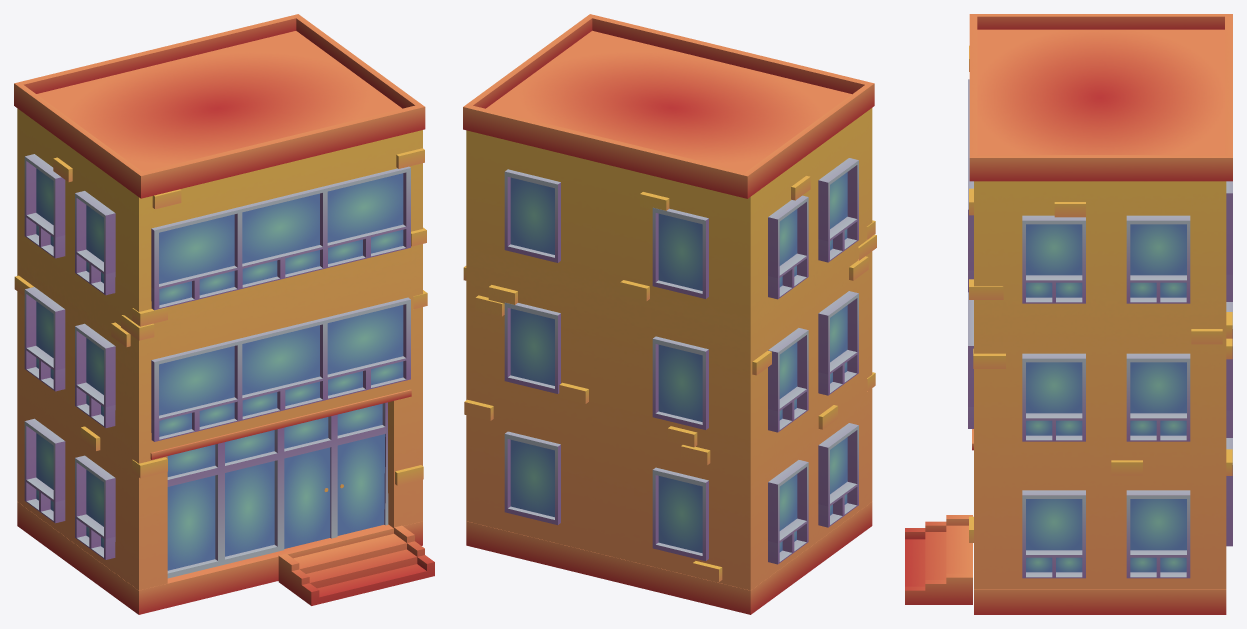
Rendered from SM_3F_R_Half_04.fbx.
3 renders of one model, left to right at view 1: azimuth 30°, elevation 25°; view 2: azimuth 150°, elevation 25°; view 3: azimuth 270°, elevation 25°, orthographic. The views are drawn at different scales.
Visible parts, largest first — view 1: SM_3F_R_Half_04; view 2: SM_3F_R_Half_04; view 3: SM_3F_R_Half_04.
Boxes of the visible parts, <box> form: SM_3F_R_Half_04: <box>14,14,434,614</box>; SM_3F_R_Half_04: <box>463,14,876,614</box>; SM_3F_R_Half_04: <box>905,14,1232,614</box>.
Bounding box in the file's own units: 7.78 × 7.01 × 10.8.
